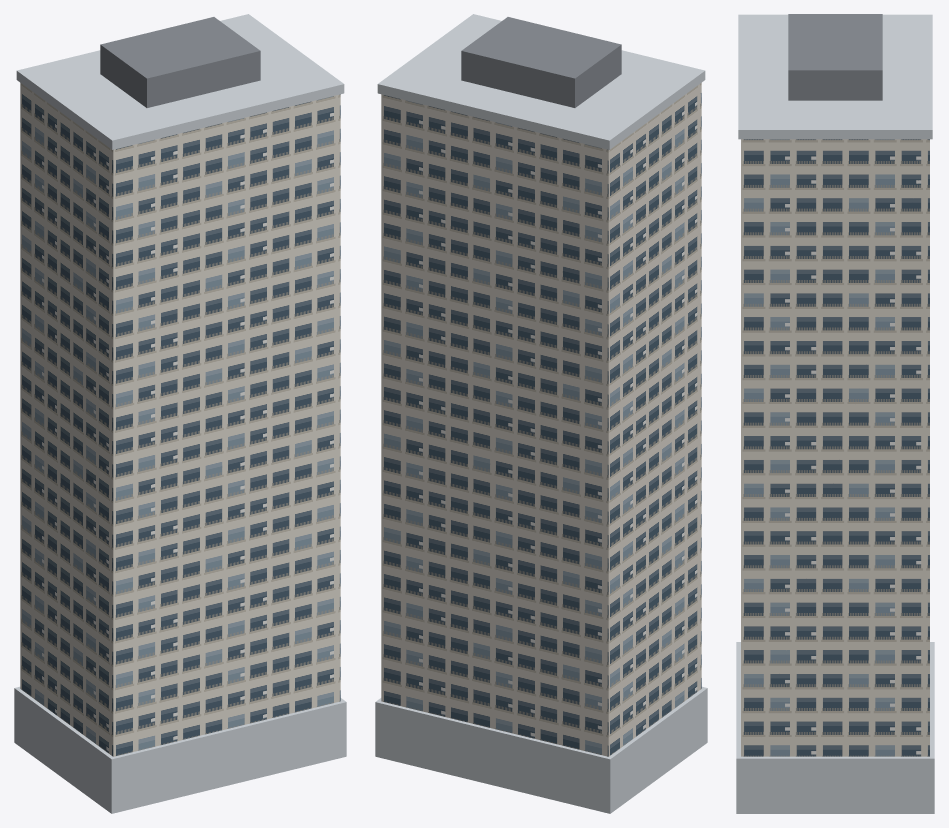
The model's file is day_tower_b.glb.
The picture shows the model from 3 angles, left to right: view 1: azimuth 30°, elevation 25°; view 2: azimuth 150°, elevation 25°; view 3: azimuth 270°, elevation 25°; orthographic projection.
Parts seen in each view (by area): view 1: daytower; view 2: daytower; view 3: daytower.
Part boxes in pixels (<box>): daytower: <box>14,14,346,813</box>; daytower: <box>375,14,707,813</box>; daytower: <box>736,14,934,813</box>.
Size of the model in its own units: 31.52 by 90 by 22.64.
Materials: 3 (1 with a texture image).
